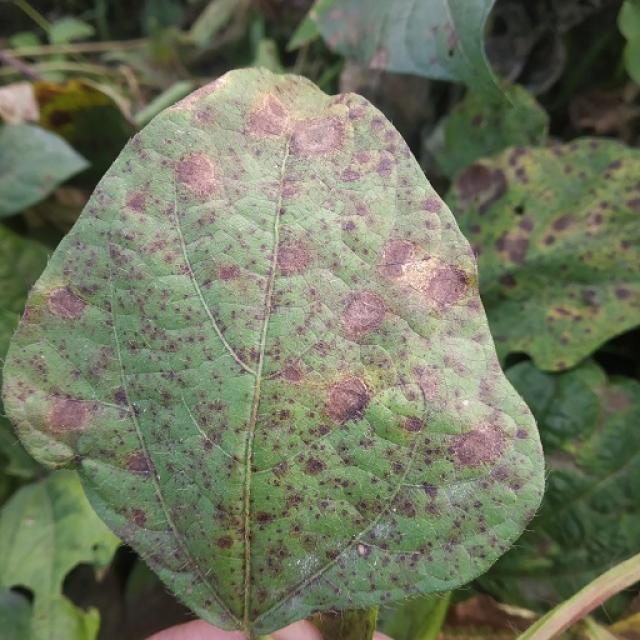Anthracnose: (77, 455, 166, 525), (127, 274, 211, 335), (313, 366, 379, 429), (455, 161, 503, 213), (291, 114, 345, 160), (341, 289, 391, 336), (417, 263, 468, 309), (453, 426, 505, 469), (246, 96, 290, 140), (176, 151, 218, 195), (46, 396, 92, 434), (273, 236, 316, 275), (217, 582, 253, 628), (597, 381, 636, 422), (282, 551, 323, 590), (46, 285, 88, 322), (496, 226, 533, 268), (380, 237, 416, 268), (199, 72, 231, 93), (124, 452, 152, 475), (550, 212, 579, 234), (216, 263, 241, 282), (302, 455, 325, 475), (368, 47, 388, 70), (48, 453, 75, 470), (280, 363, 304, 382), (579, 287, 601, 306), (402, 416, 424, 434), (111, 387, 130, 406), (420, 481, 439, 500), (446, 30, 459, 56), (612, 286, 634, 301), (216, 535, 234, 550), (329, 8, 345, 22), (255, 510, 272, 523), (357, 543, 372, 557), (324, 548, 340, 561), (249, 463, 260, 474), (428, 54, 439, 65), (428, 25, 438, 36), (277, 206, 287, 216), (91, 543, 101, 552), (185, 586, 194, 595), (178, 468, 186, 477), (461, 399, 470, 407)
Blackgram: (4, 69, 544, 634)
